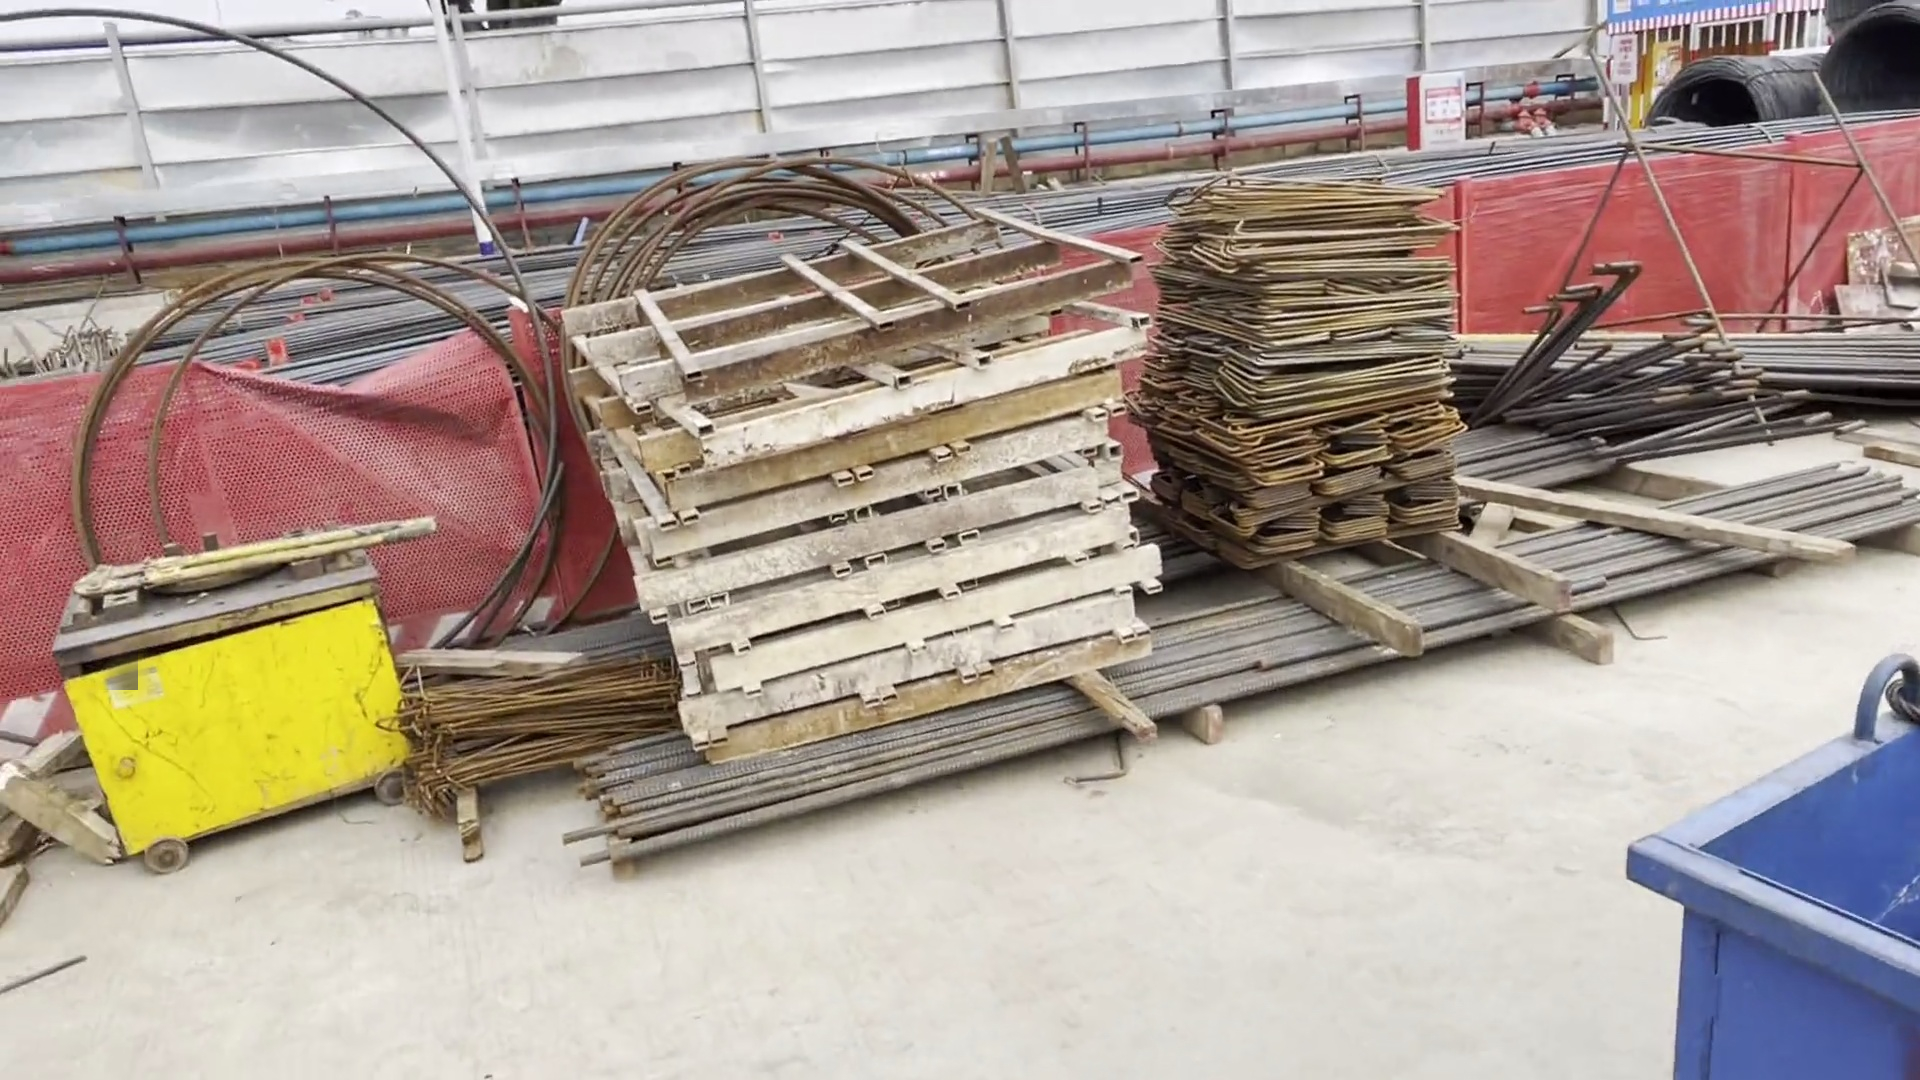fence: (1, 7, 1465, 231)
hopper: (1613, 720, 1920, 1080)
rebar: (589, 459, 1894, 851), (1461, 315, 1887, 388)
